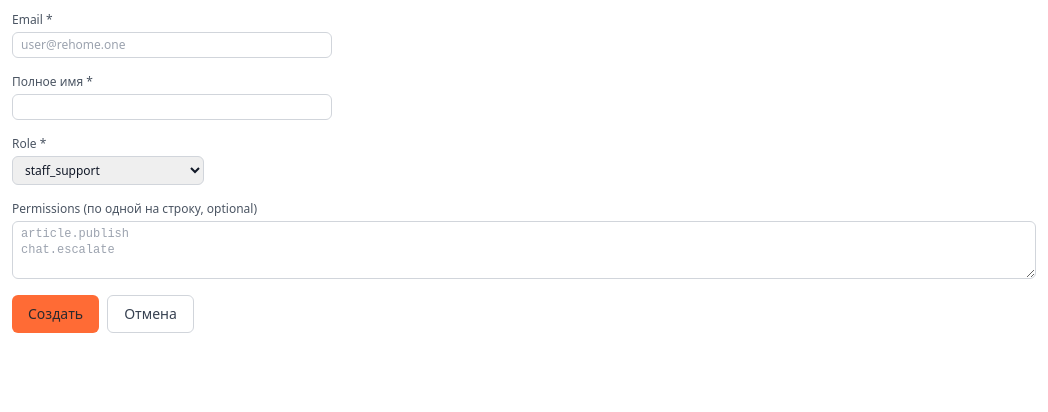
Test: KbUserCreateForm › shows 409 conflict message
Type "exists@example.com" into the field labelled "Email". click: (172, 45)
box: [12, 32, 332, 58]
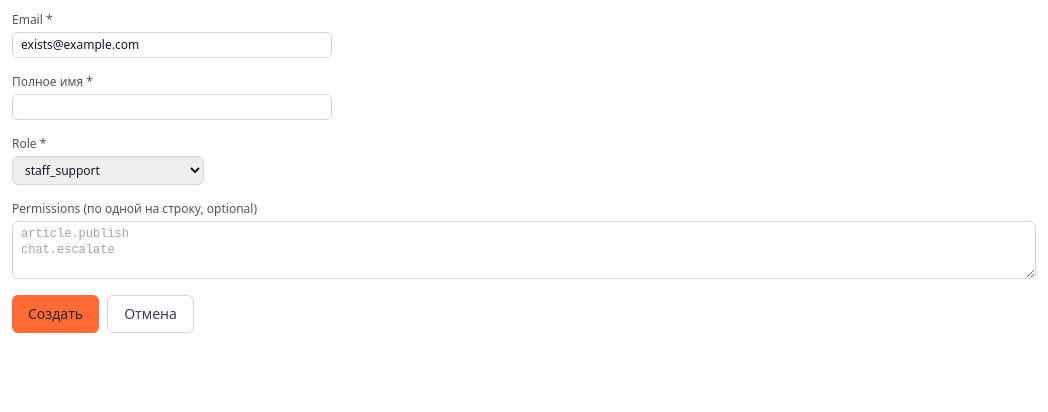
Type "Existing" into the field named "Full name". click: (172, 107)
box: [12, 94, 332, 120]
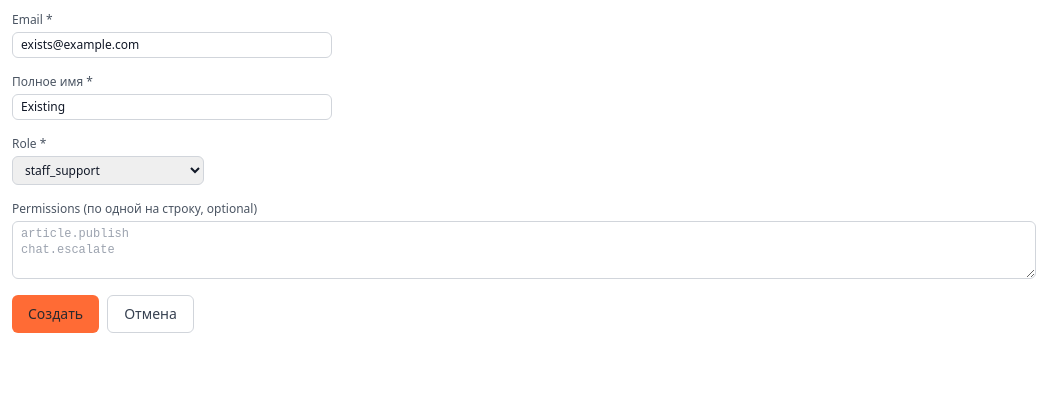
Click the button "Создать". click: (56, 314)
box: [12, 295, 99, 333]
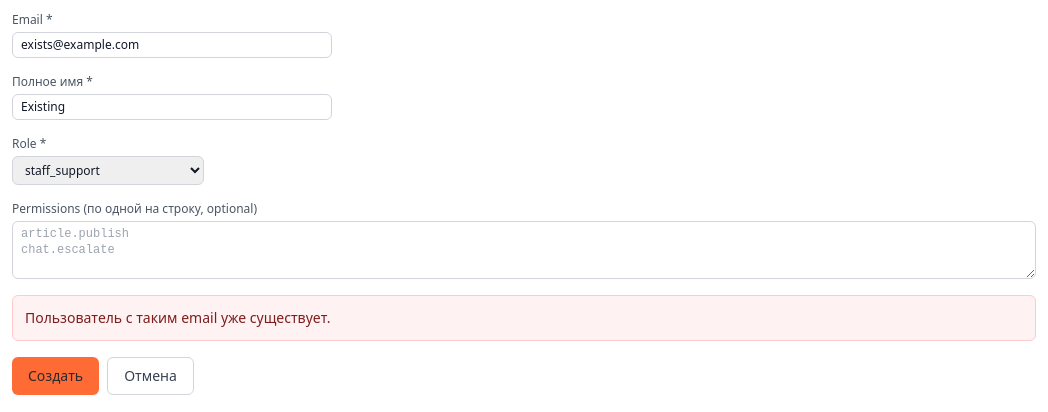
Result: the message shows "уже существует" at [25, 308, 330, 327]
